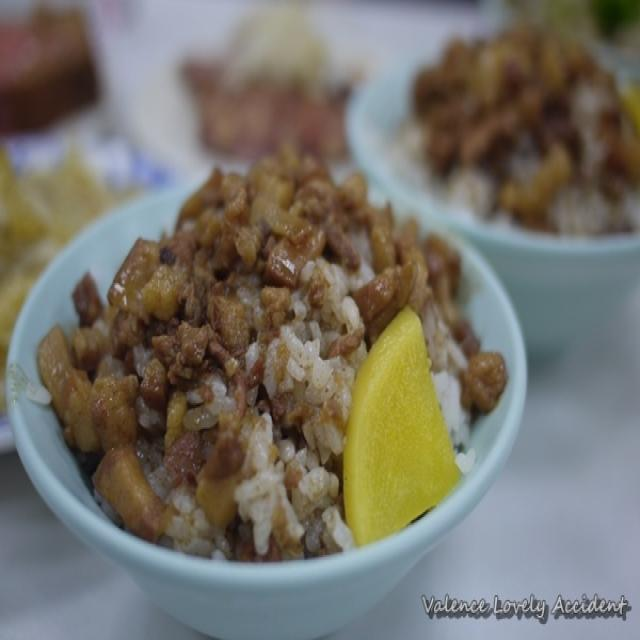猪肉菜式: (39, 100, 486, 578)
